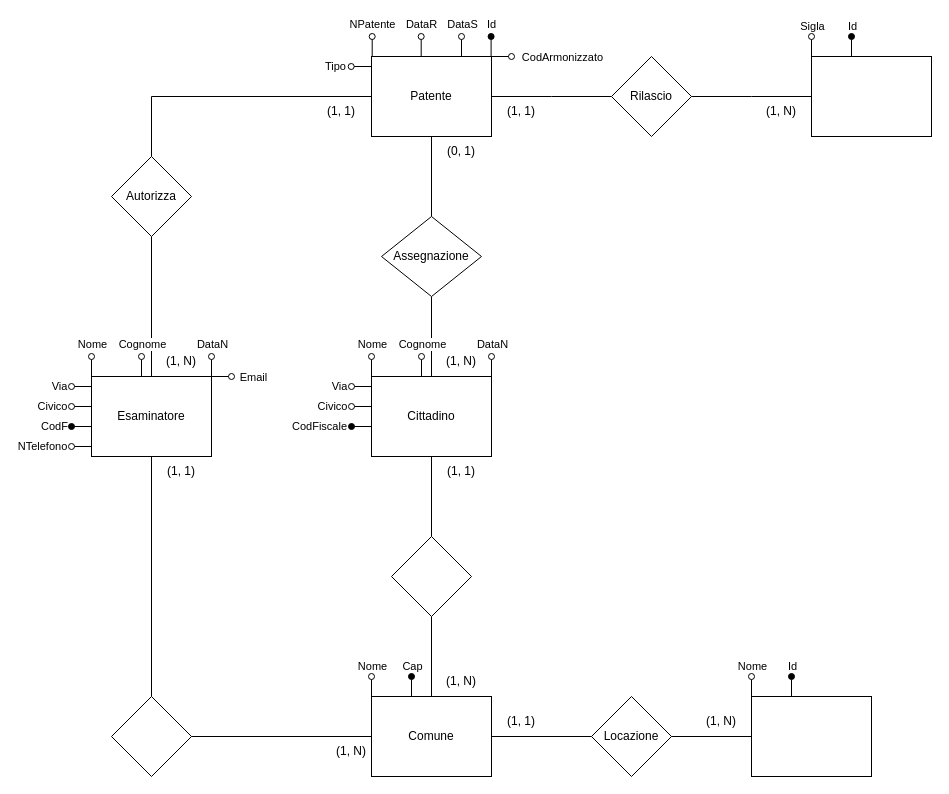
Some shapes in this 949 by 794 pixel diagram are drawn without their labels. The box of each missing label's shape, as (x1, y1, x2, y2) in pixels:
Provincia: (810, 56, 932, 136)
Regione: (750, 696, 872, 776)
ResidenzaC: (390, 536, 472, 616)
ResidenzaE: (110, 696, 192, 776)
